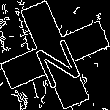N_NW: (26, 23, 84, 87)
